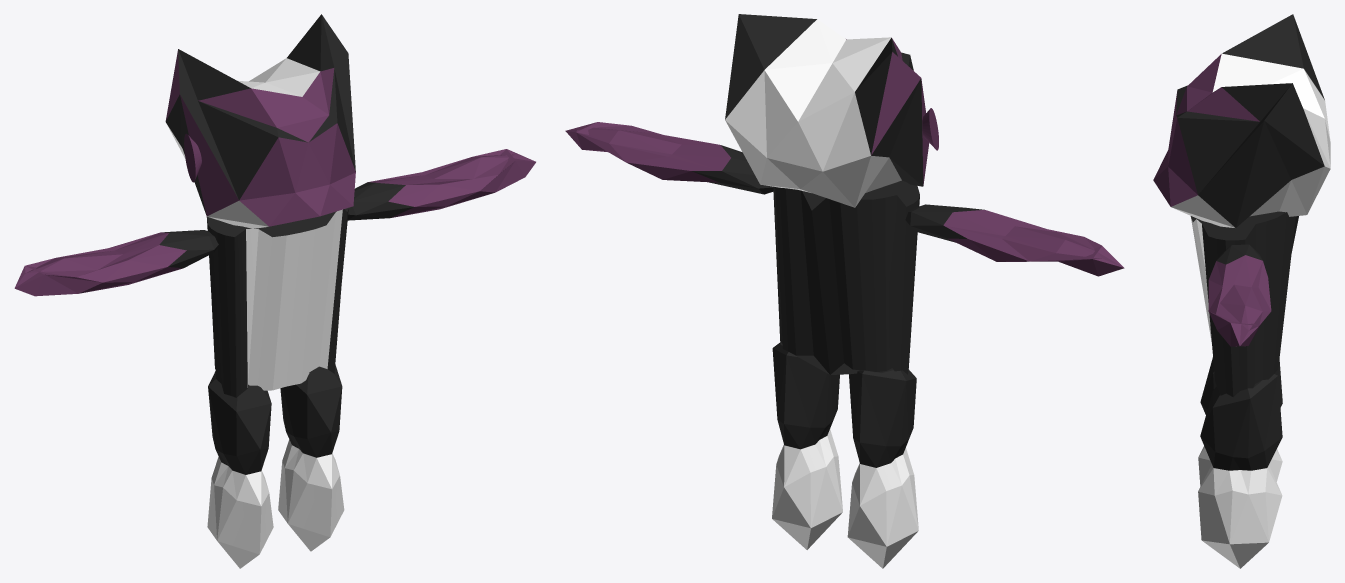
File: Character.glb
3 renders of one model, left to right at view 1: azimuth 30°, elevation 25°; view 2: azimuth 150°, elevation 25°; view 3: azimuth 270°, elevation 25°, orthographic. The views are drawn at different scales.
Visible parts, largest first — view 1: Cilindro.001; view 2: Cilindro.001; view 3: Cilindro.001.
Boxes of the visible parts, box(x1,y1,x2,y2) form: Cilindro.001: box(14, 14, 535, 568); Cilindro.001: box(565, 14, 1124, 568); Cilindro.001: box(1153, 14, 1330, 568).
Bounding box in the file's own units: 6.73 × 6.28 × 2.01.
2 materials, 2 textured.
